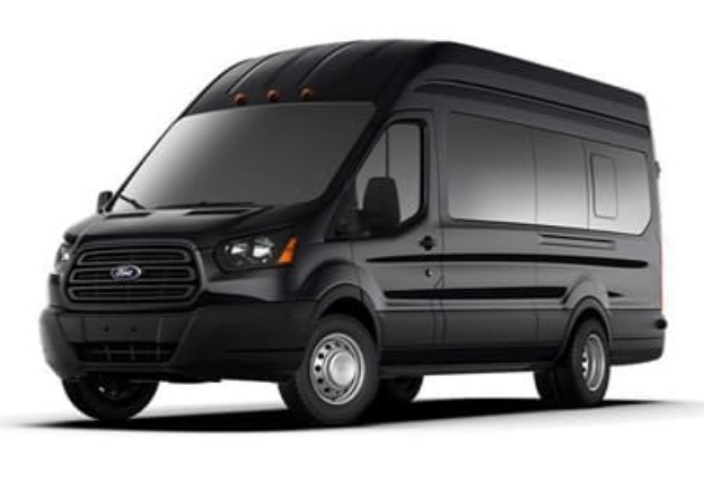van: (39, 39, 672, 427)
